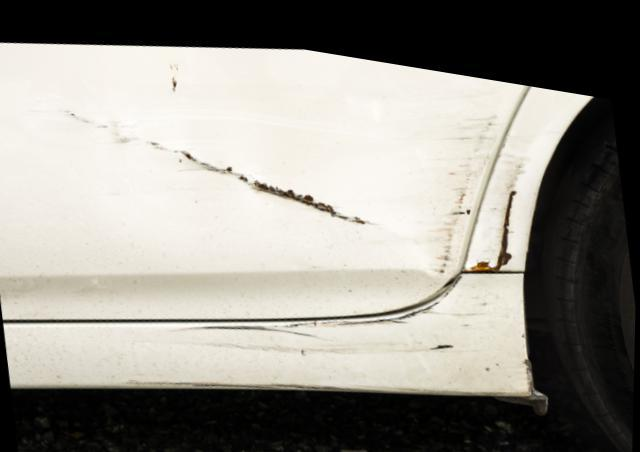scratch: (70, 96, 504, 259), (180, 261, 488, 347), (468, 137, 532, 257)
